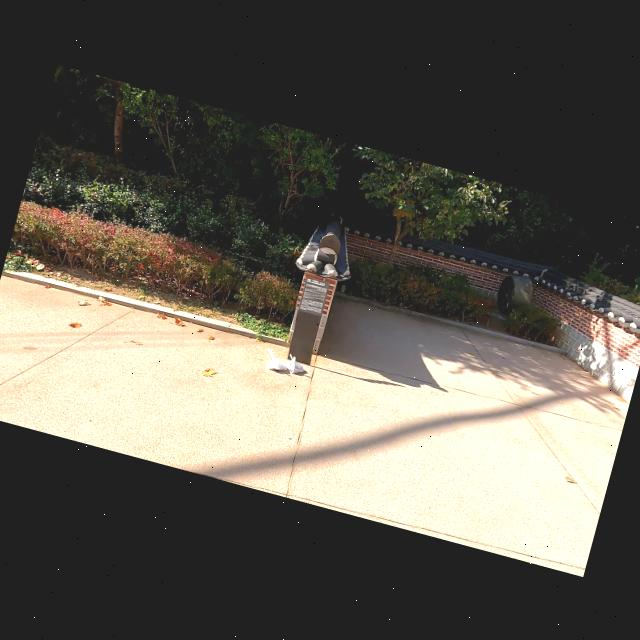trash: (262, 346, 292, 375), (281, 349, 310, 378)
